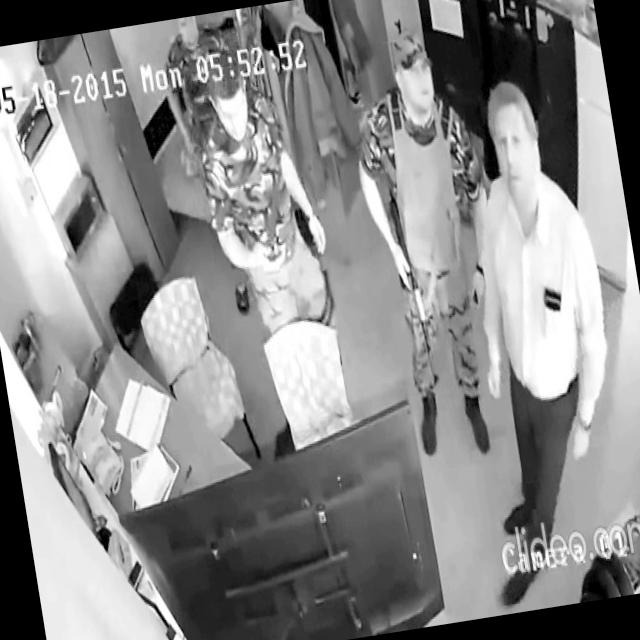gun: (382, 182, 442, 392)
person: (423, 72, 640, 607), (182, 36, 341, 353), (155, 12, 243, 173)
person with a gun: (338, 19, 528, 472)
